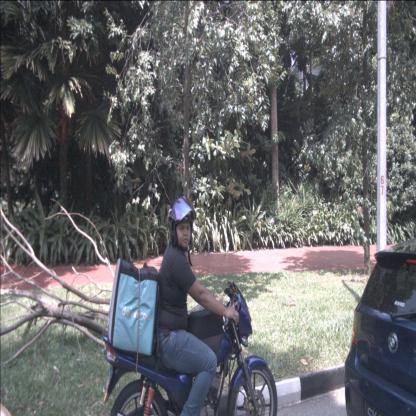vehicle-car: (344, 238, 416, 416)
vehicle-motorcycle: (102, 197, 278, 415)
